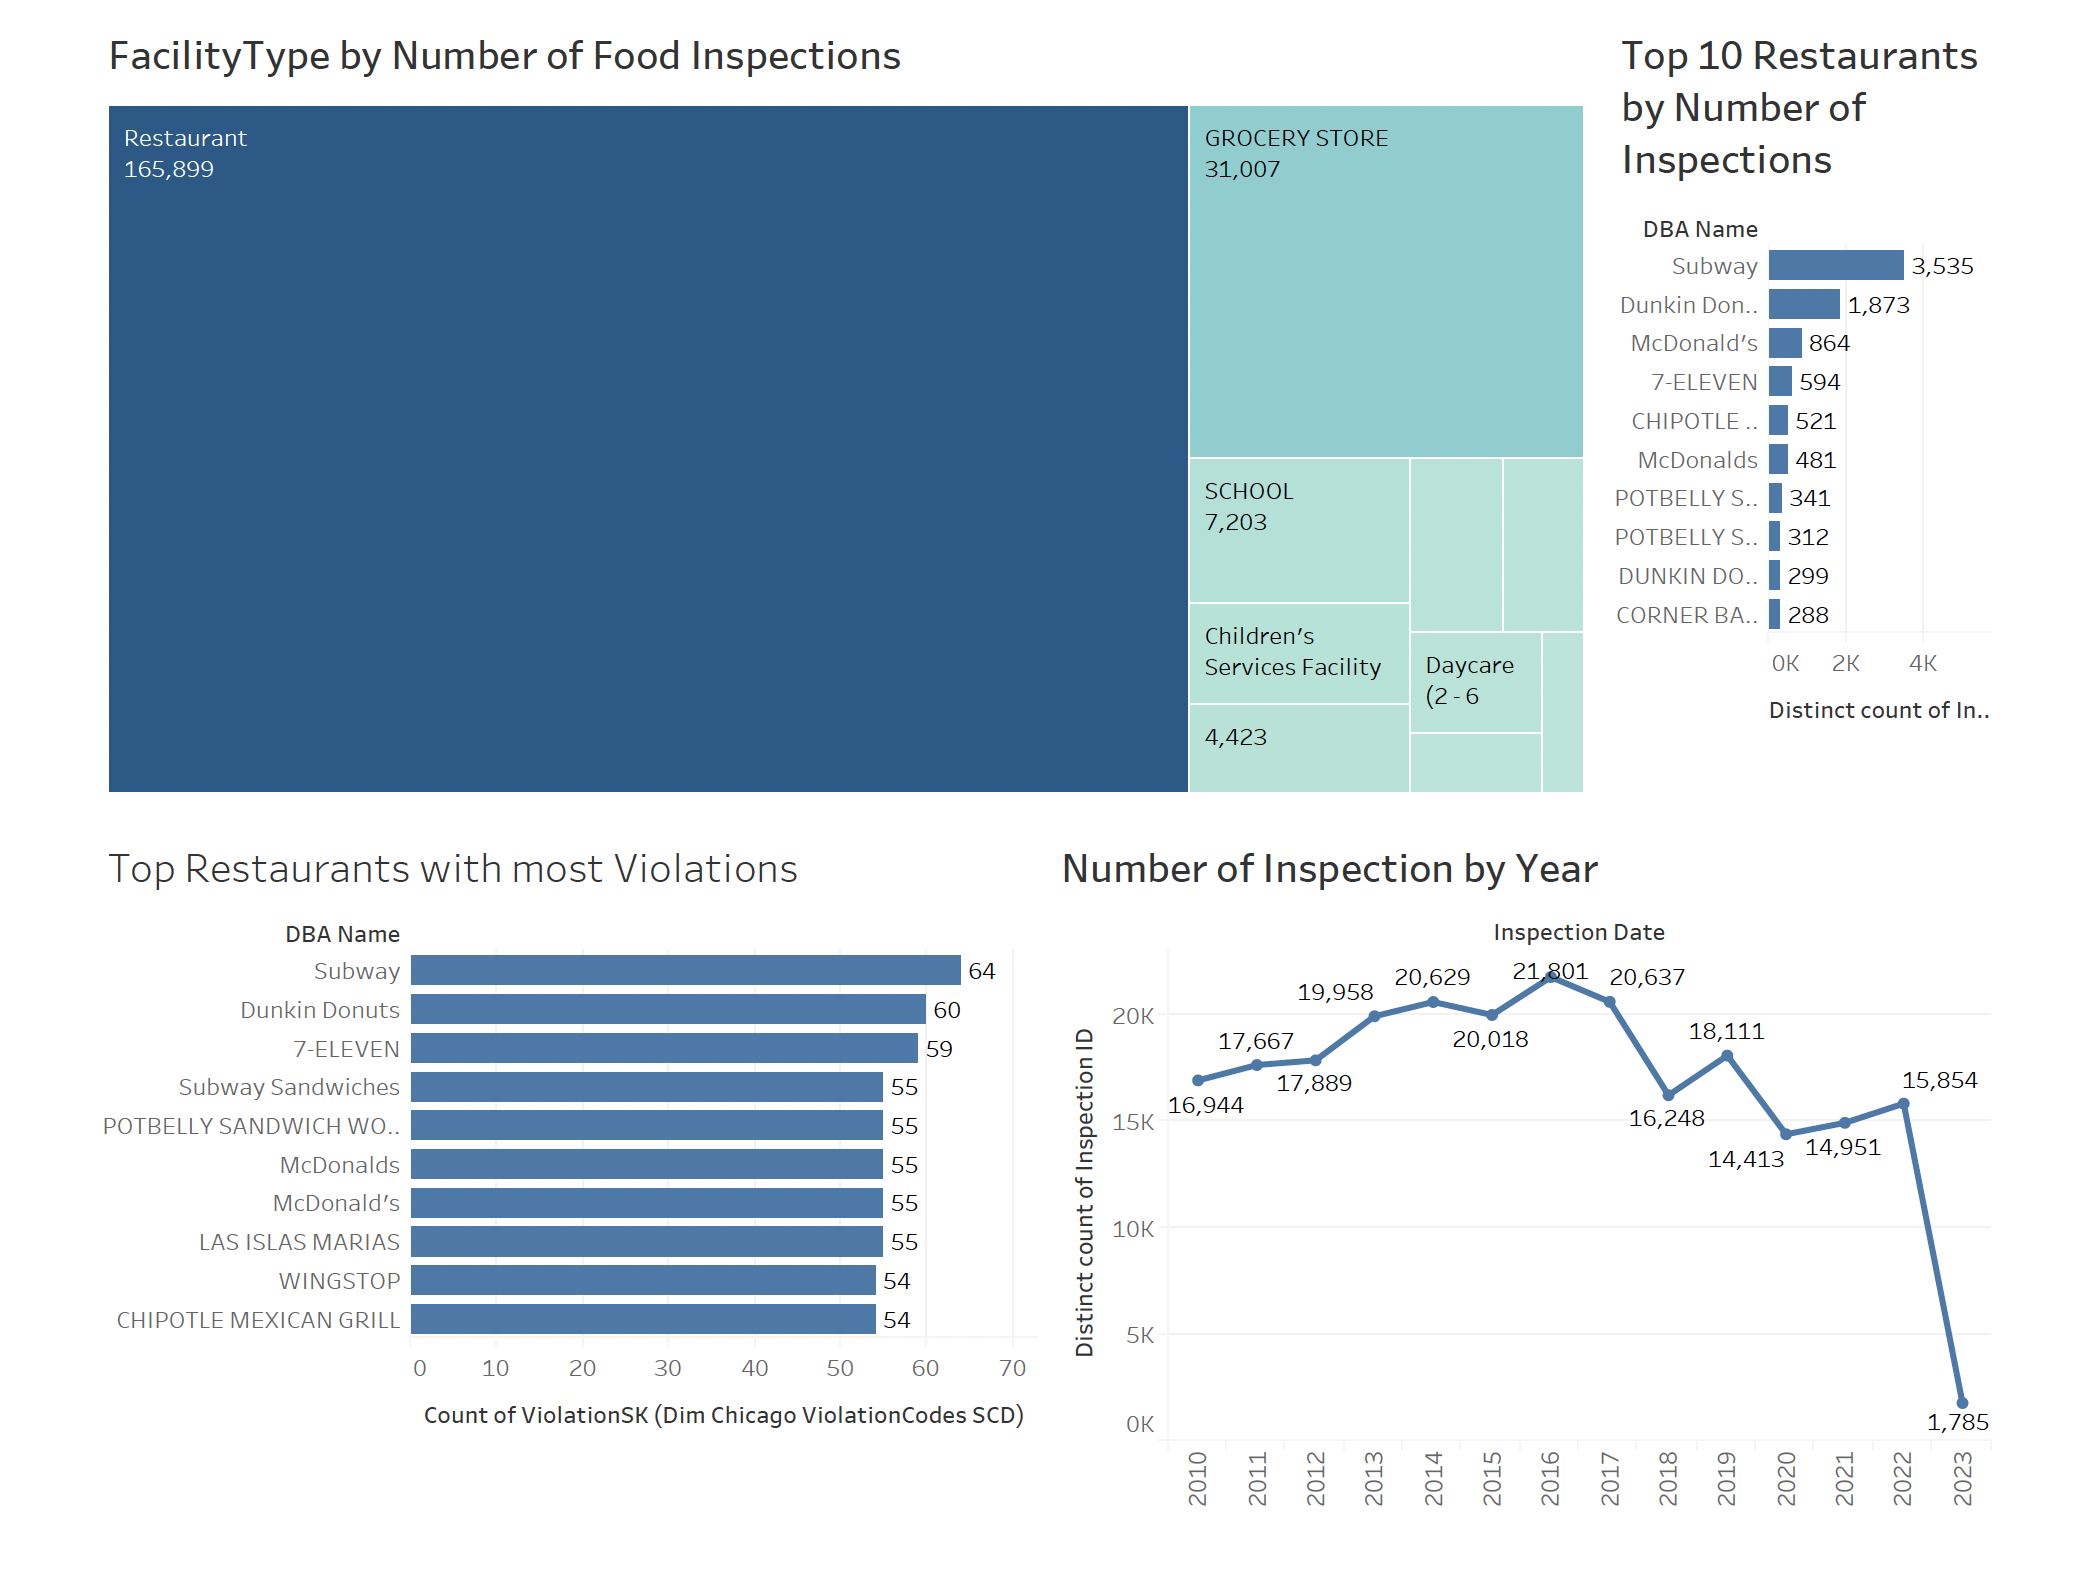

Layout of this report page (visuals, bound fields, positions):
{"tool":"tableau","page":{"name":"Chicago_Dashboard","canvas":[1000,800],"ordinal":0},"visuals":[{"type":"worksheet","title":"FacilityType by Number of Food Inspections","mark":"Automatic","box":[8,8,781,420]},{"type":"worksheet","title":"Top 10 Restaurants by Number of Inspections","mark":"Automatic","rows":["DBA_Name"],"cols":["InspectionID"],"box":[789,8,203,420]},{"type":"worksheet","title":"Top Restaurants with most Violations","mark":"Automatic","rows":["DBA_Name"],"cols":["ViolationSK (Dim_Chicago_ViolationCodes_SCD)"],"box":[8,428,492,364]},{"type":"worksheet","title":"Number of Inspection by Year","mark":"Automatic","rows":["InspectionID"],"cols":["InspectionDate"],"box":[500,428,492,364]}]}

Visuals, with their boxes on the page's 1000x800 design canvas (x1, y1, x2, y2). These are canvas units, not pixel positions in the 2088x1592 screenshot, which may show the page scaled, cropped or inside an application window:
"FacilityType by Number of Food Inspections" worksheet: Rect(8, 8, 789, 428)
"Top 10 Restaurants by Number of Inspections" worksheet: Rect(789, 8, 992, 428)
"Top Restaurants with most Violations" worksheet: Rect(8, 428, 500, 792)
"Number of Inspection by Year" worksheet: Rect(500, 428, 992, 792)
